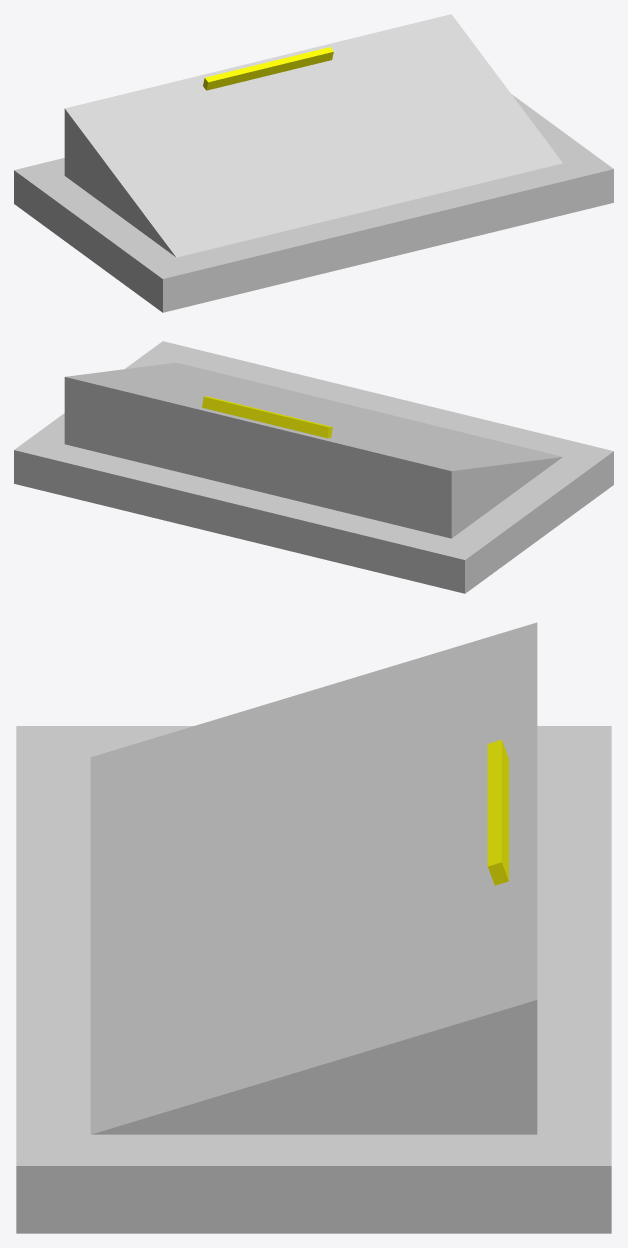
File: Light_Switch_Off.fbx
The picture shows the model from 3 angles, top to bottom: view 1: azimuth 30°, elevation 25°; view 2: azimuth 150°, elevation 25°; view 3: azimuth 270°, elevation 25°; orthographic projection. The views are drawn at different scales.
Parts seen in each view (by area): view 1: Group3, Group2; view 2: Group3, Group2; view 3: Group3, Group2.
Part boxes in pixels (x1,y1,x2,y2): Group3: [64, 14, 562, 257]; Group2: [14, 94, 613, 312]; Group3: [64, 362, 562, 538]; Group2: [14, 341, 613, 593]; Group3: [90, 622, 537, 1134]; Group2: [16, 726, 611, 1233].
Bounding box in the file's own units: 140 × 31.58 × 80.
